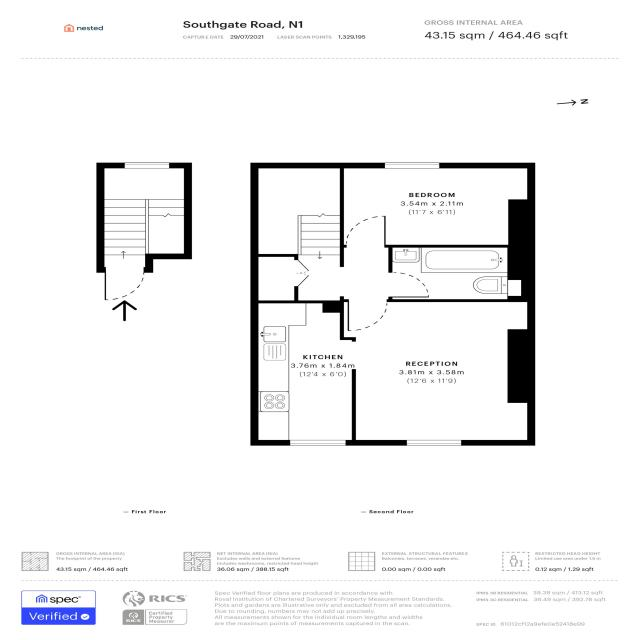DOOR: (345, 215, 387, 248), (347, 299, 388, 331), (388, 271, 430, 298)
ROOM: (250, 299, 536, 446), (340, 162, 536, 248)
WINDOW: (289, 439, 346, 446), (406, 439, 462, 446), (384, 162, 440, 169)
